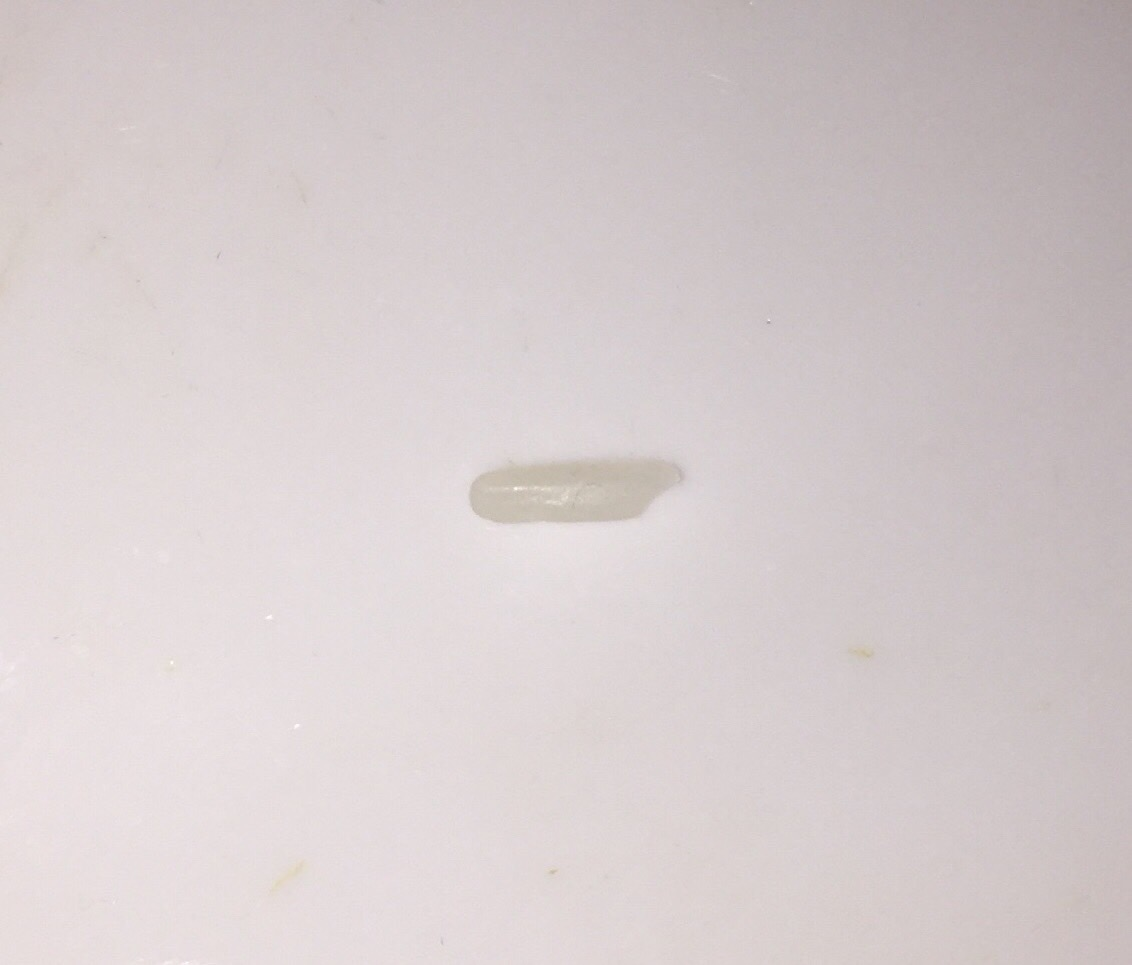Gao Ngoc Troi: (457, 421, 679, 540)
